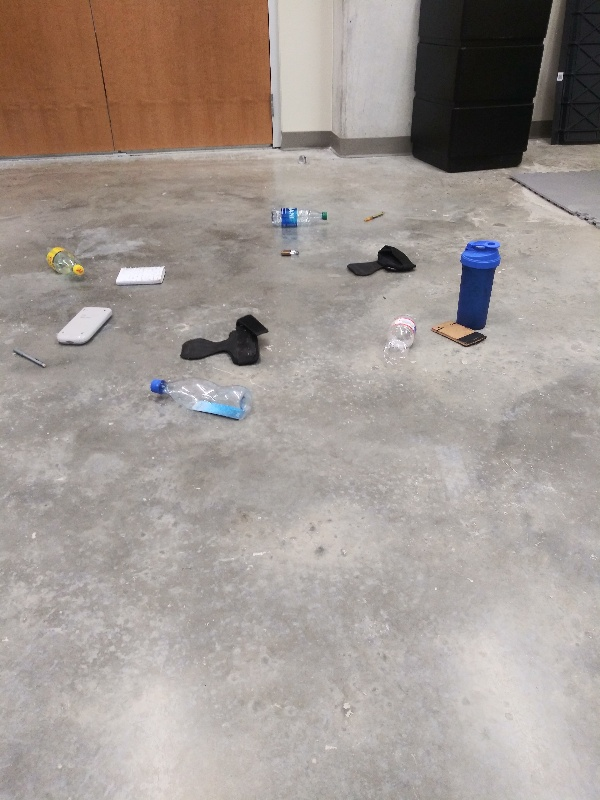bottle: (145, 374, 254, 420), (382, 306, 421, 367), (267, 201, 332, 233), (39, 242, 88, 282)
